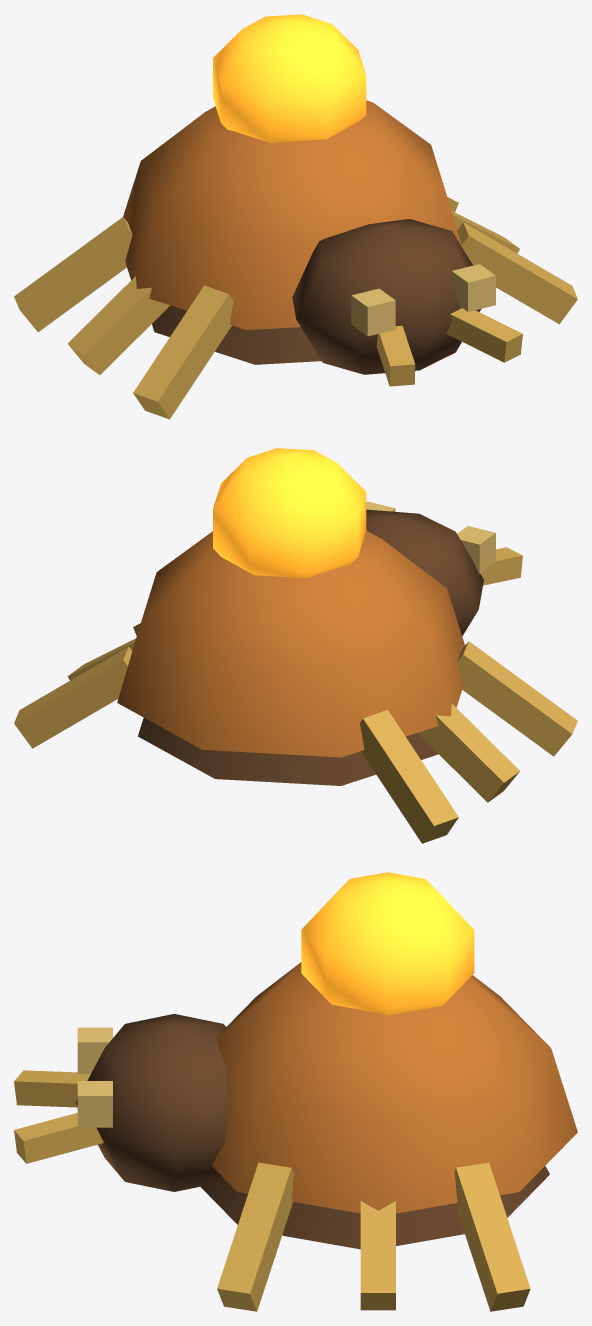
Rendered from scarabee.glb.
3 renders of one model, top to bottom at view 1: azimuth 30°, elevation 25°; view 2: azimuth 150°, elevation 25°; view 3: azimuth 270°, elevation 25°, orthographic. The views are drawn at different scales.
Visible parts, largest first — view 1: scarabee; view 2: scarabee; view 3: scarabee.
Part boxes in pixels (x1,y1,x2,y2): scarabee: (14,14,577,419); scarabee: (14,448,577,843); scarabee: (14,872,577,1311).
Size of the model in its own units: 0.5961 by 0.3822 by 0.6077.
